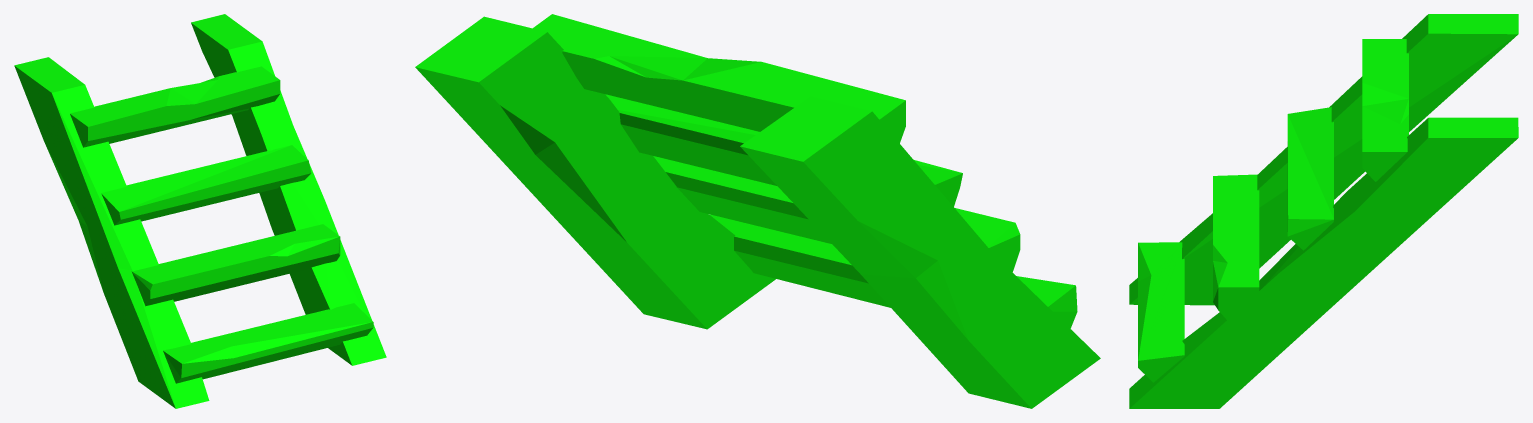
Rendered from SM_Stairs_Wood_Regular_Middle_1m_Fantasy.fbx.
3 renders of one model, left to right at view 1: azimuth 30°, elevation 25°; view 2: azimuth 150°, elevation 25°; view 3: azimuth 270°, elevation 25°, orthographic. The views are drawn at different scales.
Parts seen in each view (by area): view 1: stairs-wood-regular-middle-1m-fantasy; view 2: stairs-wood-regular-middle-1m-fantasy; view 3: stairs-wood-regular-middle-1m-fantasy.
Boxes of the visible parts, x1,y1,x2,y2 form: stairs-wood-regular-middle-1m-fantasy: (14,14,386,408); stairs-wood-regular-middle-1m-fantasy: (415,14,1100,408); stairs-wood-regular-middle-1m-fantasy: (1129,14,1518,408).
Bounding box in the file's own units: 0.98 × 1 × 1.3.
